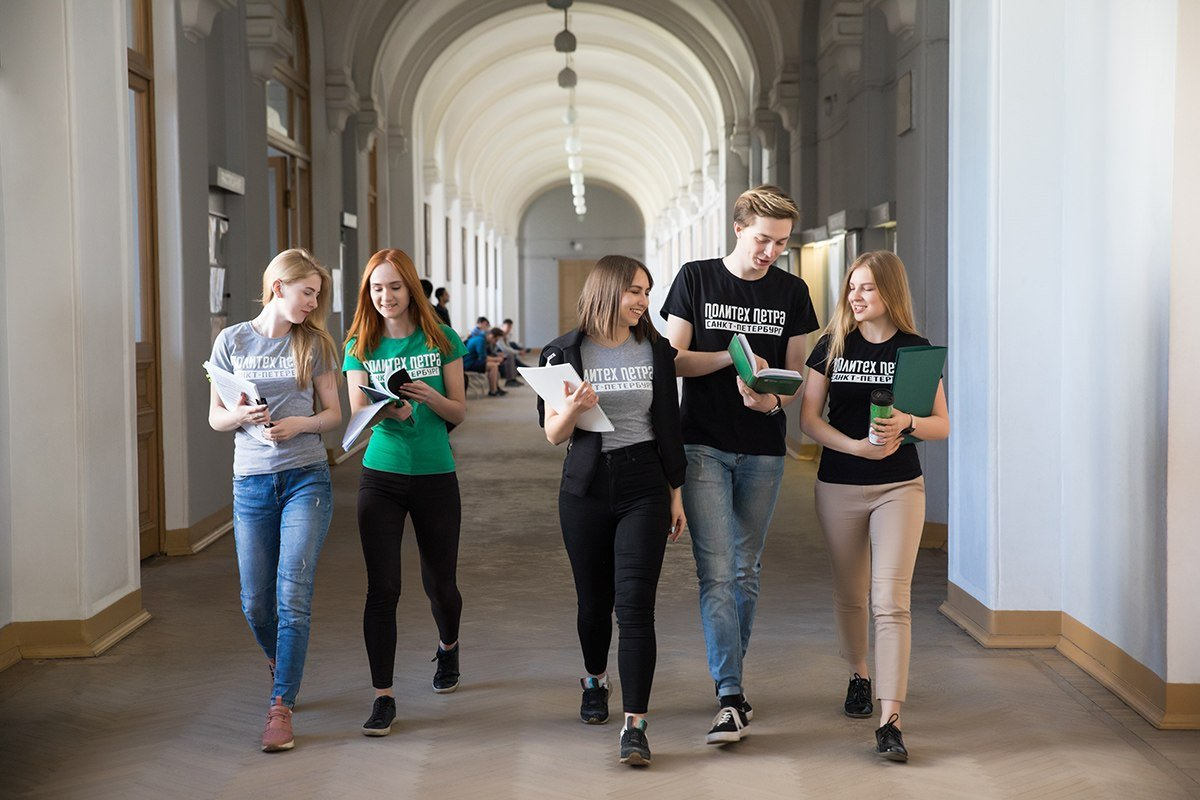students: (666, 187, 818, 745), (801, 250, 951, 765), (541, 254, 685, 768), (208, 248, 343, 754), (346, 247, 463, 736), (464, 329, 505, 399), (435, 287, 456, 329), (479, 316, 489, 330), (503, 319, 513, 331)
